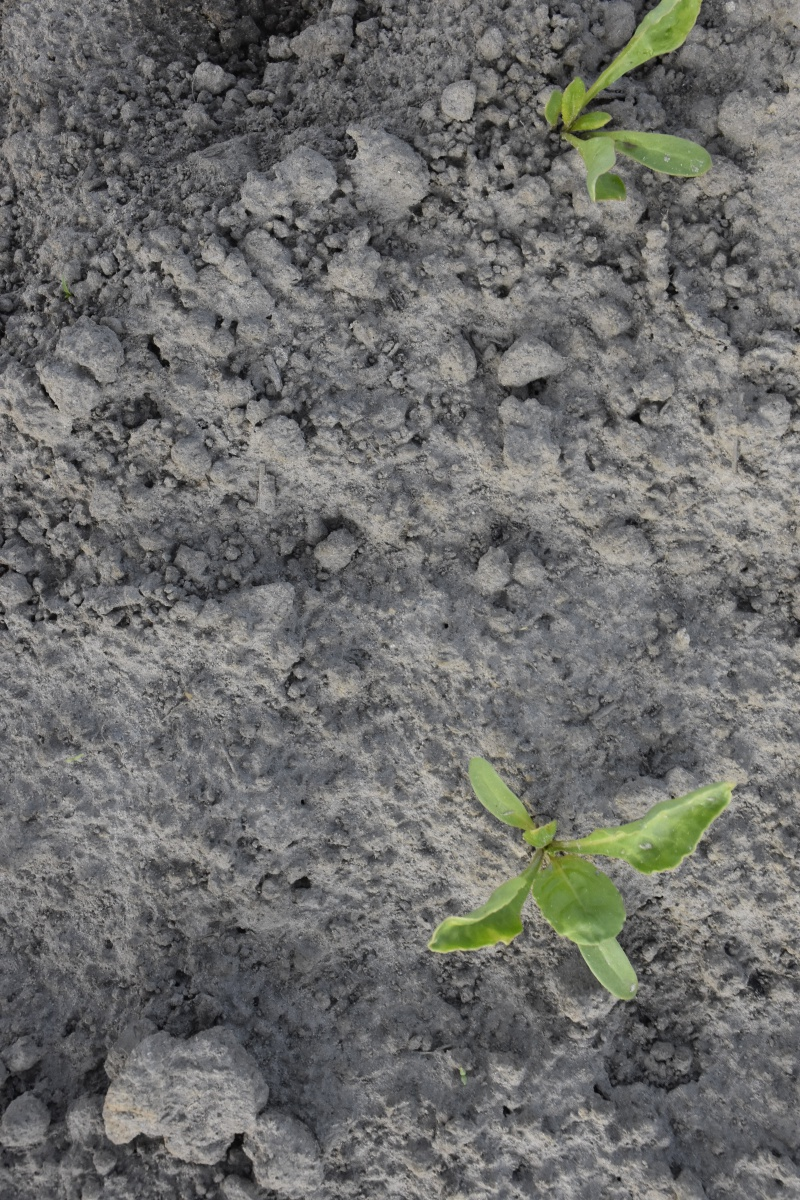sugar beet: (428, 745, 737, 1011), (518, 1, 724, 224)
